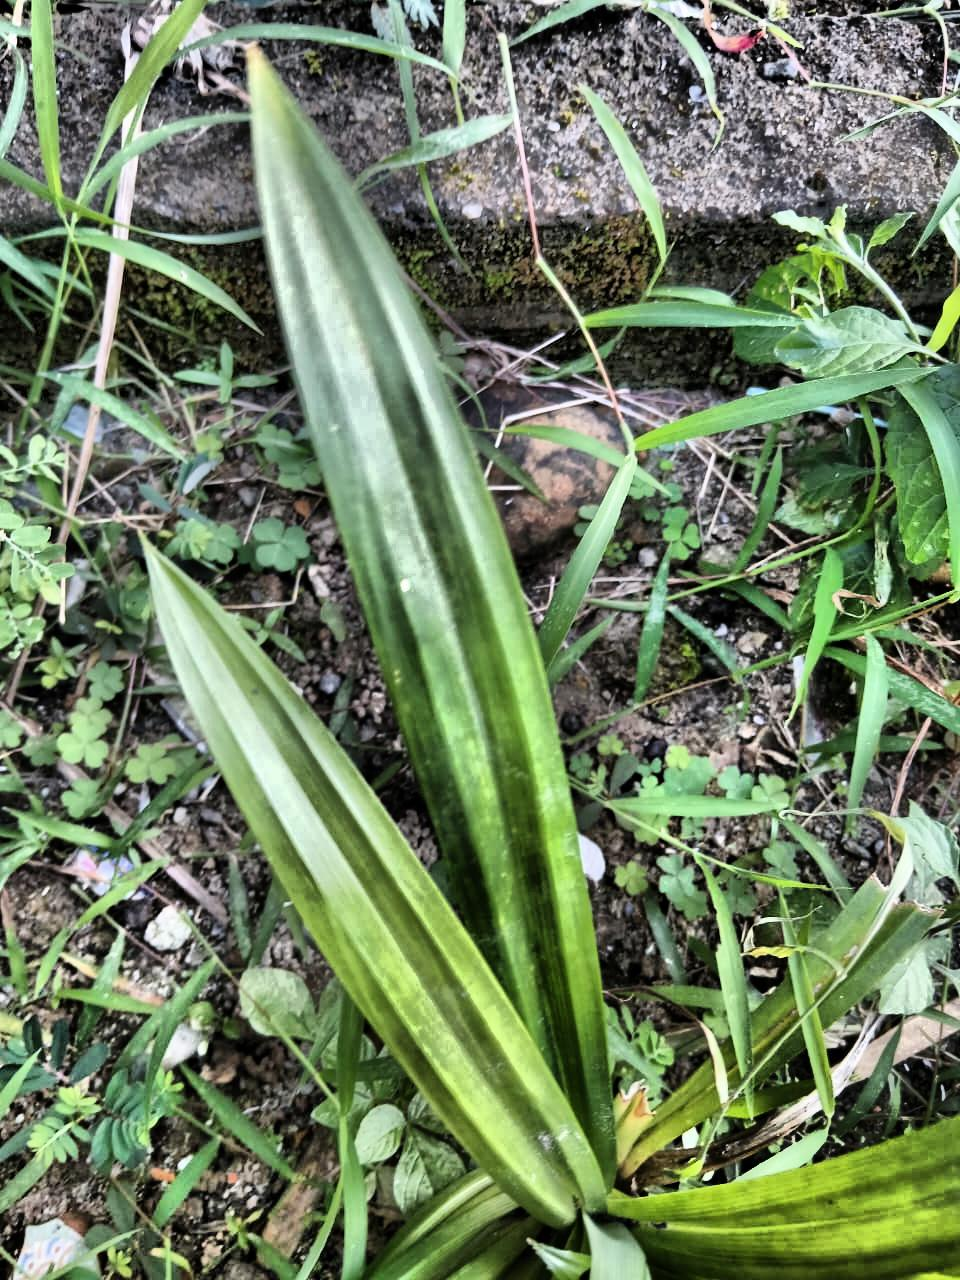daun pandan: (144, 48, 959, 1279)
